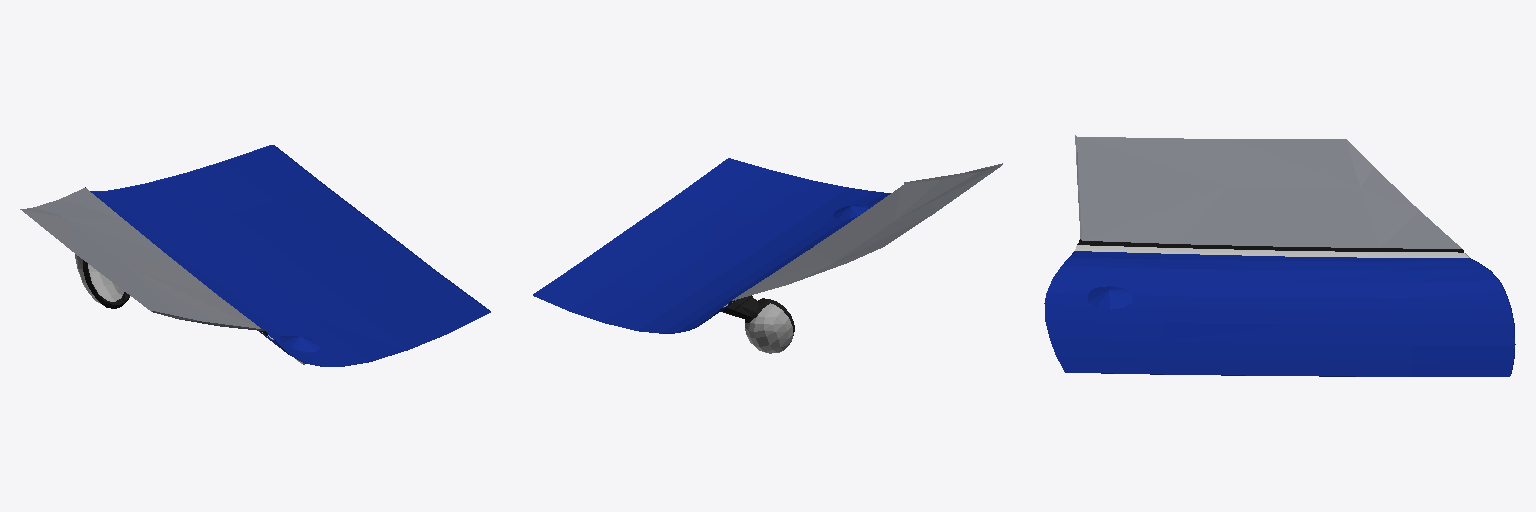
The robot description file, URDF, robot "car":
<?xml version="1.0" ?>
<robot name="car">
	<link name="base"/>
	<link name="link_0">
		<visual name="out-frame">
			<origin xyz="0 0 0"/>
			<geometry>
				<mesh filename="texture_dae/car-board.dae" scale="0.9405108563126225 0.9405108563126225 0.9405108563126225"/>
			</geometry>
		</visual>
		<collision>
			<origin xyz="0 0 0"/>
			<geometry>
				<mesh filename="texture_dae/car-board.dae" scale="0.9405108563126225 0.9405108563126225 0.9405108563126225"/>
			</geometry>
		</collision>
	</link>
	<joint name="joint_0" type="fixed">
		<origin rpy="1.570796326794897 0 -1.570796326794897" xyz="0 0 0"/>
		<child link="link_0"/>
		<parent link="base"/>
	</joint>
	<link name="link_1">
		<visual name="surf-board">
			<origin xyz="1.0037599716950236 -0.49459814817757375 0"/>
			<geometry>
				<mesh filename="texture_dae/car-door.dae" scale="0.9405108563126225 0.9405108563126225 0.9405108563126225"/>
			</geometry>
		</visual>
		<collision>
			<origin xyz="1.0037599716950236 -0.49459814817757375 0"/>
			<geometry>
				<mesh filename="texture_dae/car-door.dae" scale="0.9405108563126225 0.9405108563126225 0.9405108563126225"/>
			</geometry>
		</collision>
	</link>
	<joint name="joint_1" type="revolute">
		<origin xyz="-1.0037599716950236 0.49459814817757375 0"/>
		<axis xyz="0 -1 0"/>
		<child link="link_1"/>
		<parent link="link_0"/>
		<limit lower="0" upper="1.5079644737231006"/>
	</joint>
	<link name="link_2">
		<visual name="handle-lock">
			<origin xyz="0 0 0"/>
			<geometry>
				<mesh filename="texture_dae/9968007-lock.dae" scale="0.8421896178595445 0.8421896178595445 0.8421896178595445"/>
			</geometry>
		</visual>
		<collision>
			<origin xyz="0 0 0"/>
			<geometry>
				<mesh filename="texture_dae/9968007-lock.dae" scale="0.8421896178595445 0.8421896178595445 0.8421896178595445"/>
			</geometry>
		</collision>
	</link>
	<joint name="joint_2" type="fixed">
		<origin xyz="0.9937599716950236 -0.49459814817757375 0.005"/>
		<child link="link_2"/>
		<parent link="link_1"/>
	</joint>
	<link name="link_3">
		<visual name="handle">
			<origin xyz="0 0 0"/>
			<geometry>
				<mesh filename="texture_dae/9968007-handle.dae" scale="0.8421896178595445 0.8421896178595445 0.8421896178595445"/>
			</geometry>
		</visual>
		<collision>
			<origin xyz="0 0 0"/>
			<geometry>
				<mesh filename="texture_dae/9968007-handle.dae" scale="0.8421896178595445 0.8421896178595445 0.8421896178595445"/>
			</geometry>
		</collision>
	</link>
	<joint name="joint_3" type="revolute">
		<origin xyz="0 0 0"/>
		<child link="link_3"/>
		<parent link="link_2"/>
		<axis xyz="0 -1 0"/>
		<limit lower="0" upper="0.17453"/>
	</joint>
</robot>

--- Render facts (derived) ---
Views: 3 orthographic renders of the robot side by side, from view 1: azimuth 30°, elevation 25°; view 2: azimuth 150°, elevation 25°; view 3: azimuth 270°, elevation 25°.
Robot: car — 5 links, 4 joints (2 revolute, 2 fixed); root link base; default pose: all joints at 0.
Visible links, largest first — view 1: link_1; view 2: link_1; view 3: link_1.
Link boxes in pixels (box(x1,y1,x2,y2)): link_1: box(20, 145, 490, 366); link_1: box(533, 158, 1002, 353); link_1: box(1044, 135, 1515, 376).
Size in the robot's own frame: 1.03 by 1.26 by 0.4012 metres.
3 mesh visuals loaded from 4 distinct referenced files (3 Collada DAE); not drawn: 1 (reference not matched to a file when rendering).
